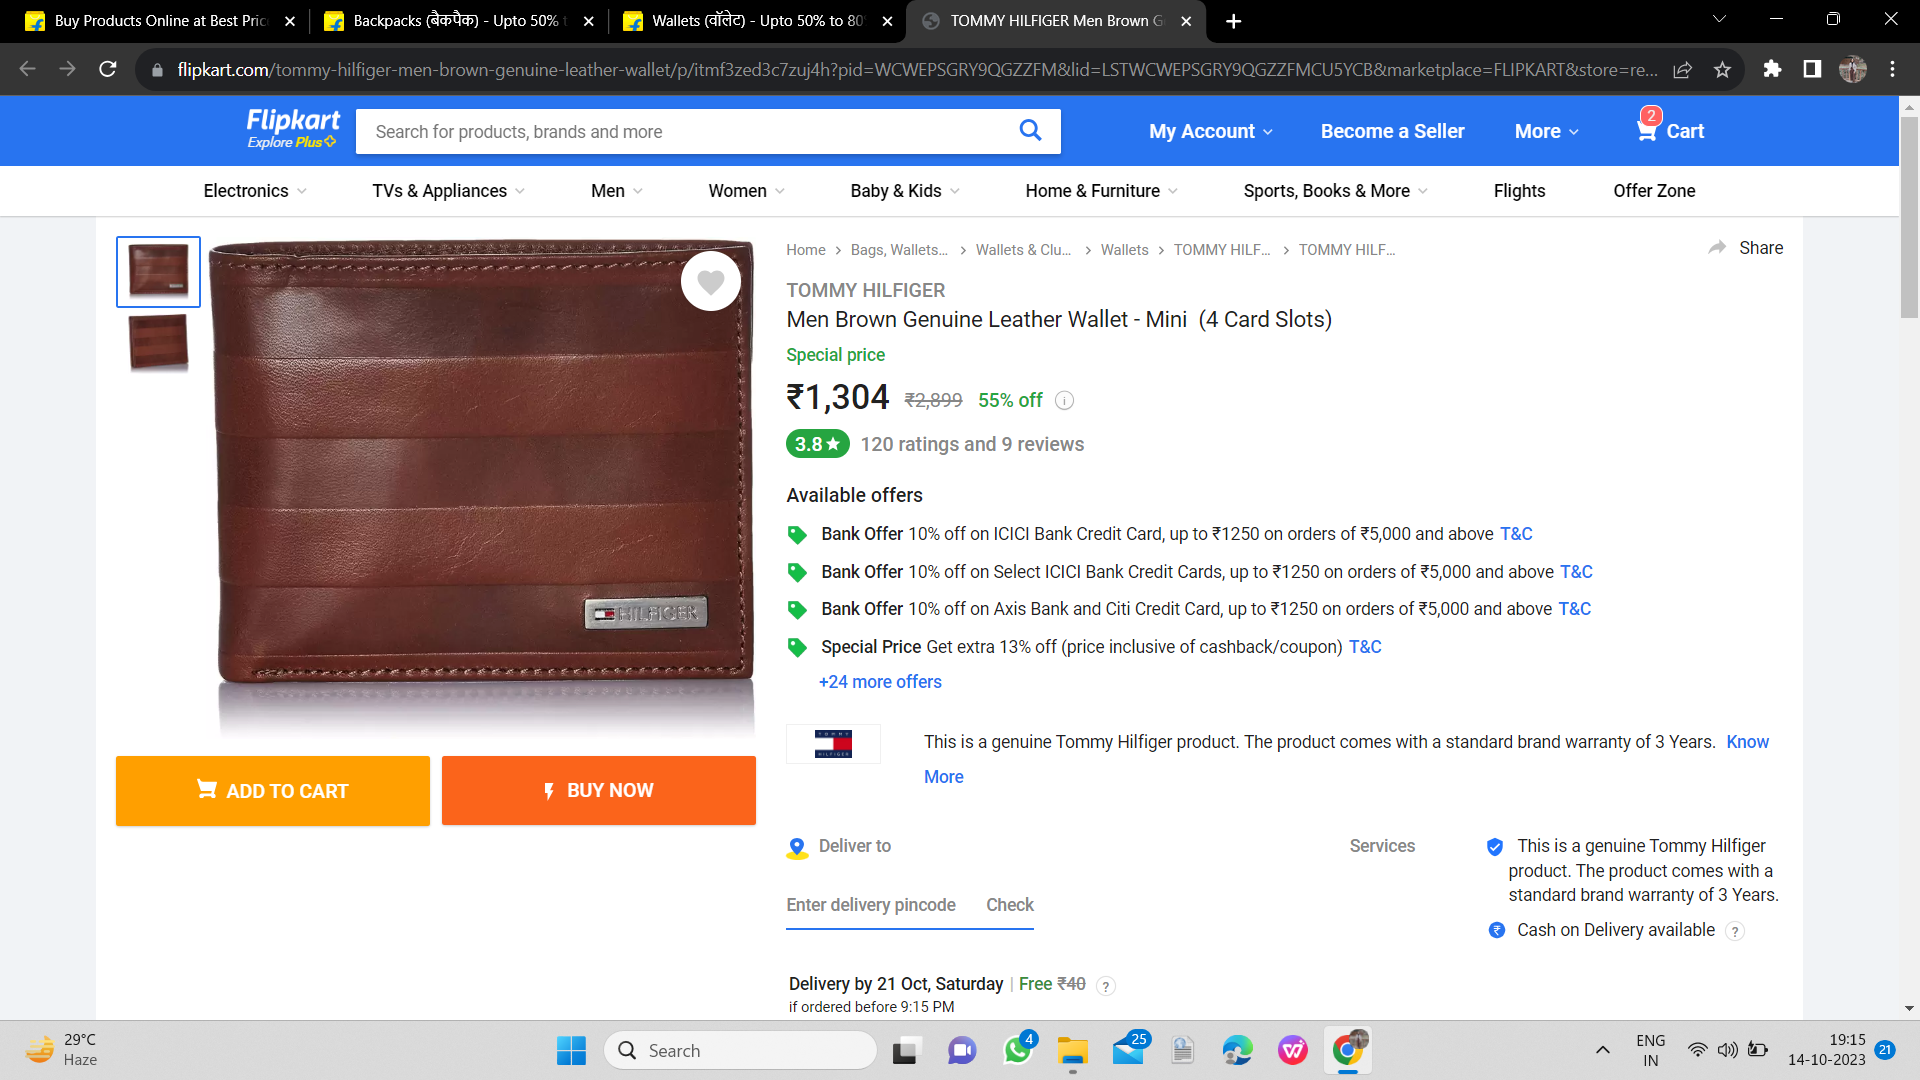Image: (203, 224, 756, 709)
Paragraph: (773, 522, 1594, 699), (105, 737, 760, 855), (1327, 820, 1784, 953), (790, 712, 1720, 761), (766, 831, 1058, 951), (774, 272, 1342, 332), (1122, 99, 1724, 156), (767, 345, 1064, 417), (774, 423, 1089, 471), (774, 964, 1004, 998), (773, 481, 939, 498)
